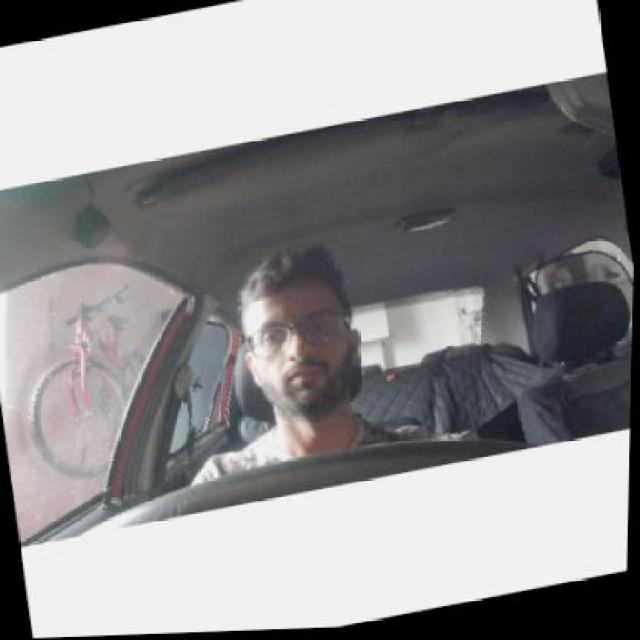person: (232, 237, 371, 432)
